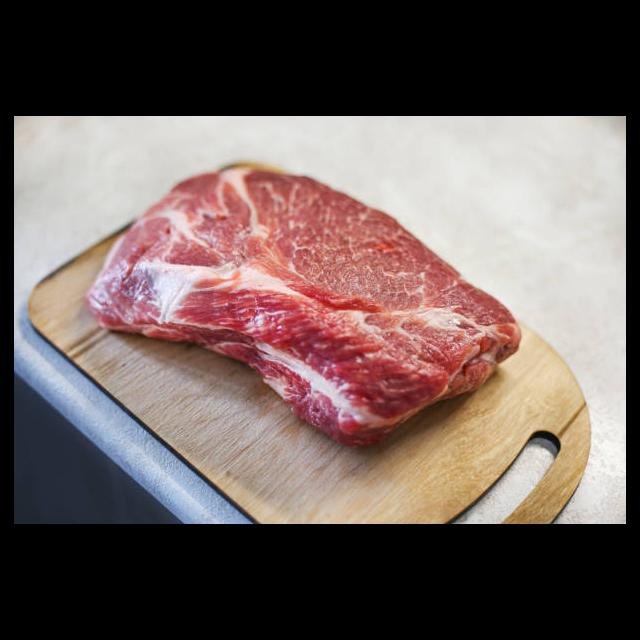beef: (83, 168, 524, 452)
